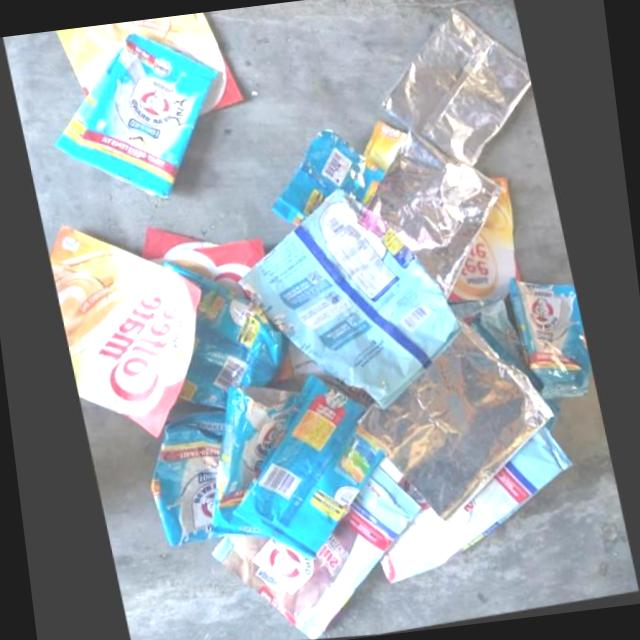bao_bi_thuc_pham: (359, 327, 553, 522), (381, 7, 531, 168), (370, 133, 502, 299)
goi_nhua_nho: (238, 190, 461, 410), (212, 468, 421, 640), (48, 229, 200, 441), (380, 426, 573, 585), (233, 376, 384, 561), (55, 36, 218, 201), (52, 12, 244, 119), (162, 264, 282, 411), (211, 389, 297, 540), (271, 131, 385, 226), (150, 414, 224, 551), (509, 278, 590, 399), (448, 177, 522, 304)
